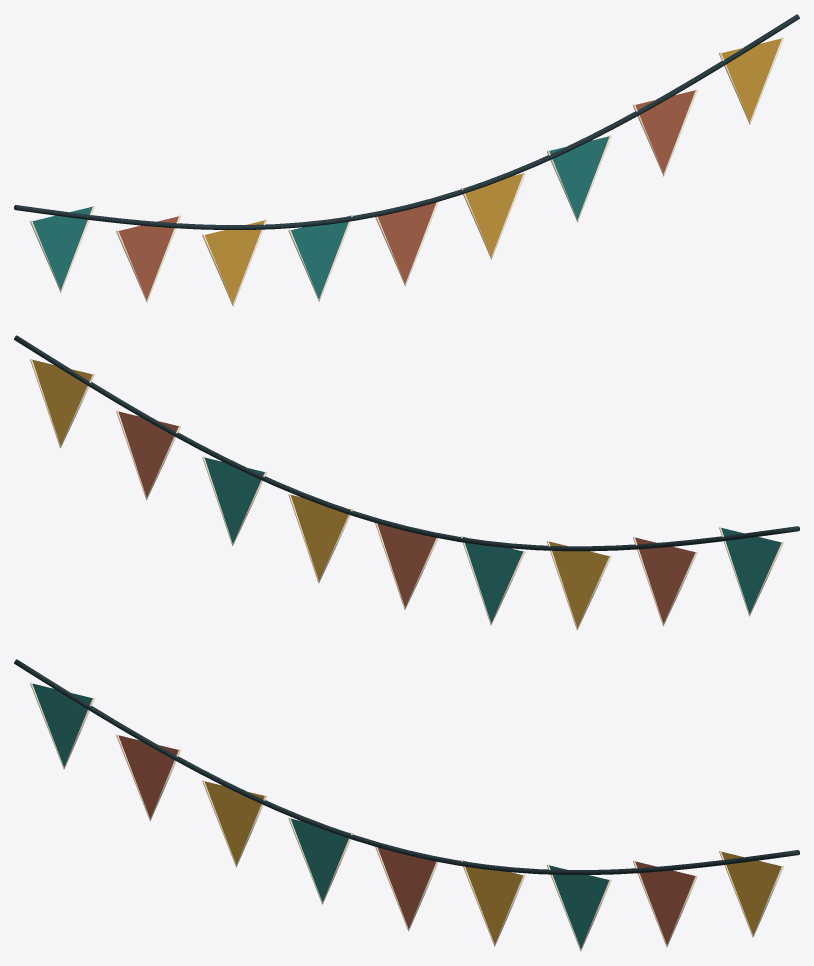
The model's file is bunting.glb.
3 views of the same model, one above another, from view 1: azimuth 30°, elevation 25°; view 2: azimuth 150°, elevation 25°; view 3: azimuth 330°, elevation 25° (orthographic).
Visible parts, largest first — view 1: GEO-bunting; view 2: GEO-bunting; view 3: GEO-bunting.
Part boxes in pixels (x1,y1,x2,y2): GEO-bunting: (14, 14, 799, 306); GEO-bunting: (14, 335, 799, 630); GEO-bunting: (14, 659, 799, 951).
Size of the model in its own units: 3.01 by 0.6519 by 0.025.
